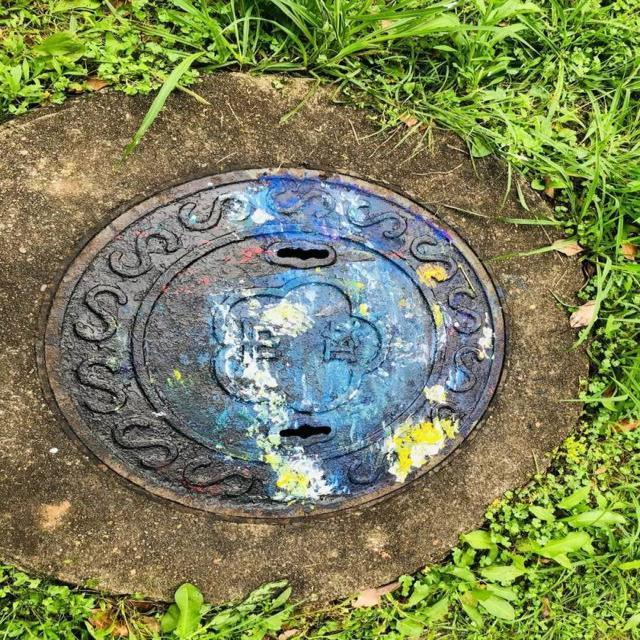manhole: (45, 170, 505, 508)
